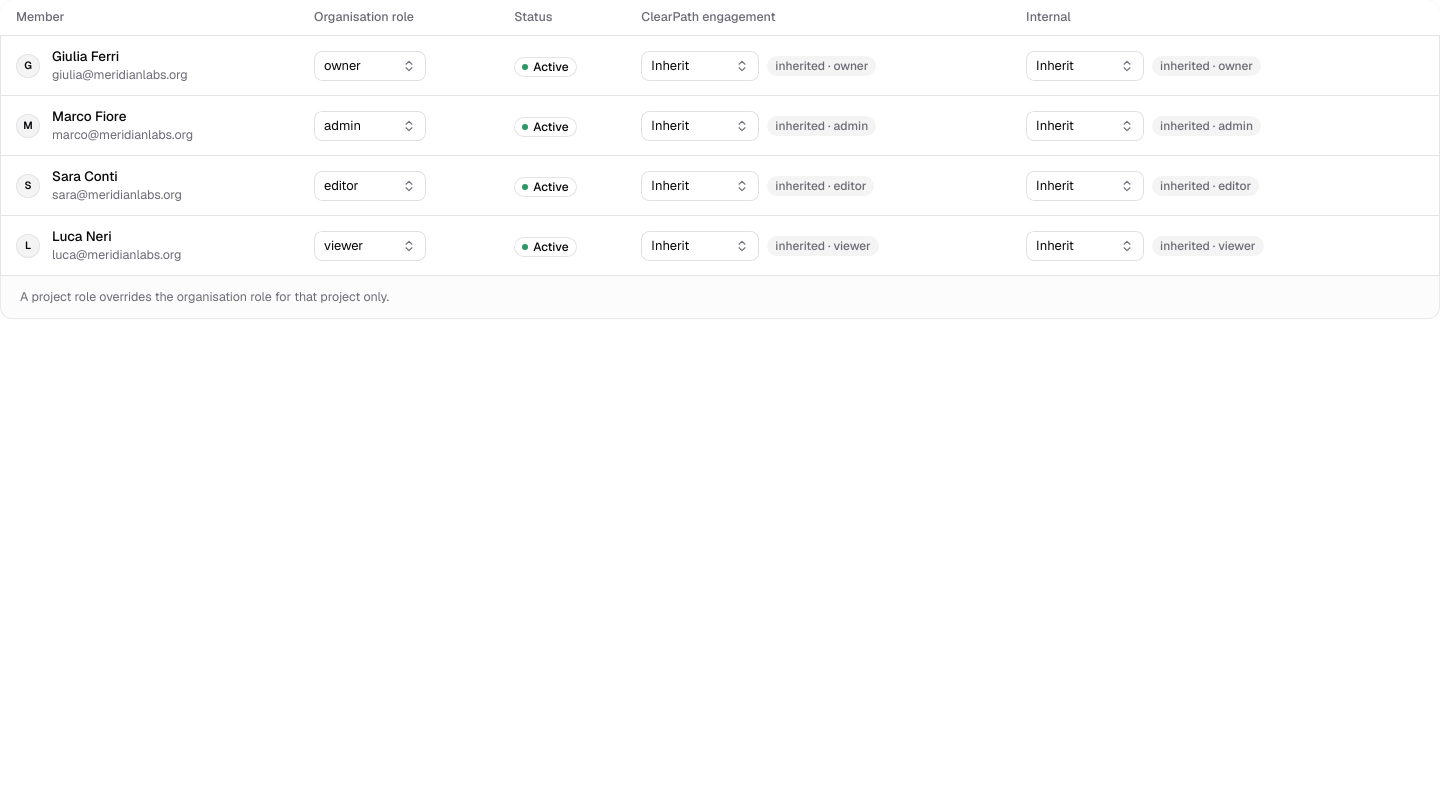
MembersTab › changing the organisation role › saves the new role, says so and refreshes
Check: the text "Sara Conti" is shown, box 52,167 -> 118,185
Select "admin" in the dropdown named "Organisation role" in the row of "Sara Conti" at (370, 186), box 314,170 -> 426,200
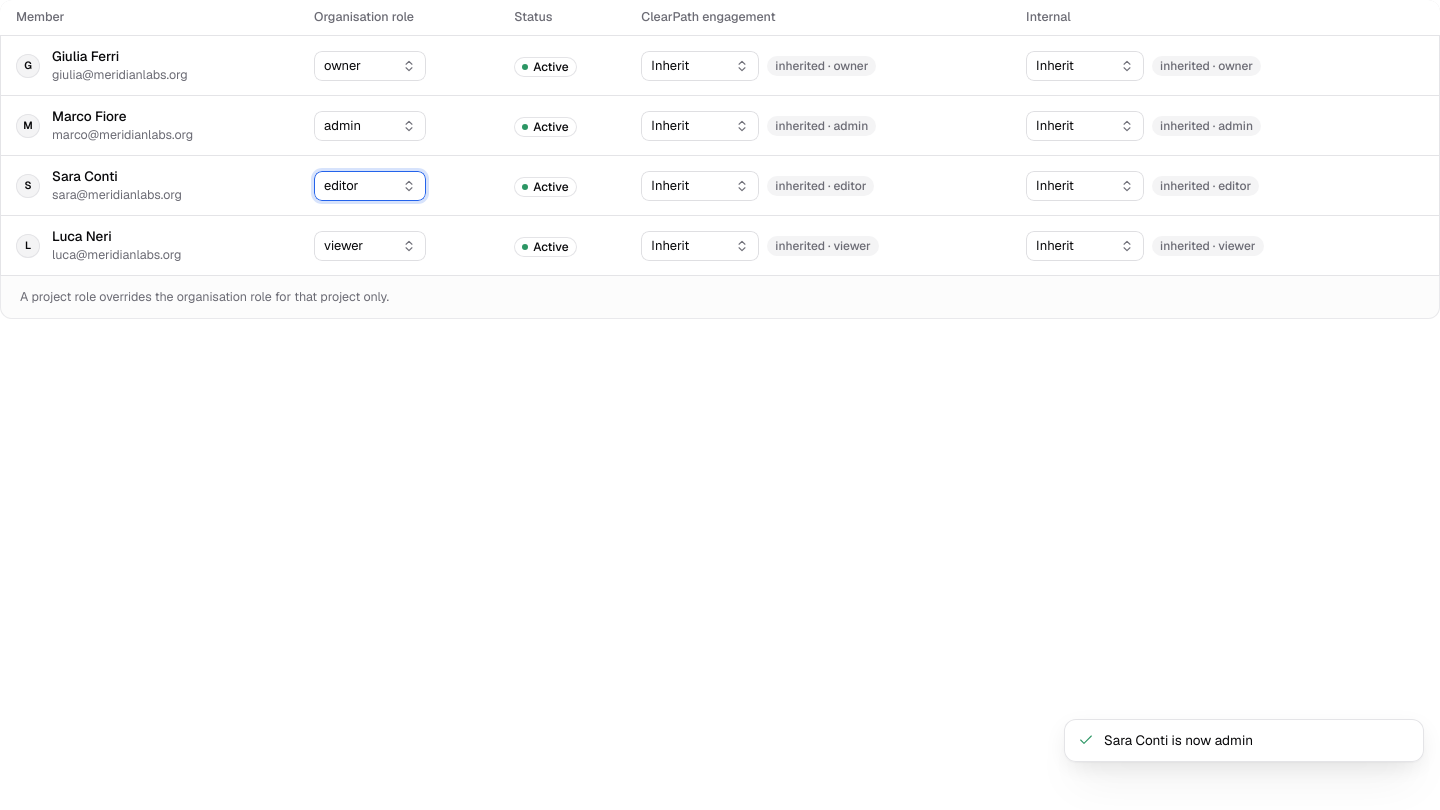
Check: the text "Sara Conti is now admin" is shown, box 1104,731 -> 1253,749
